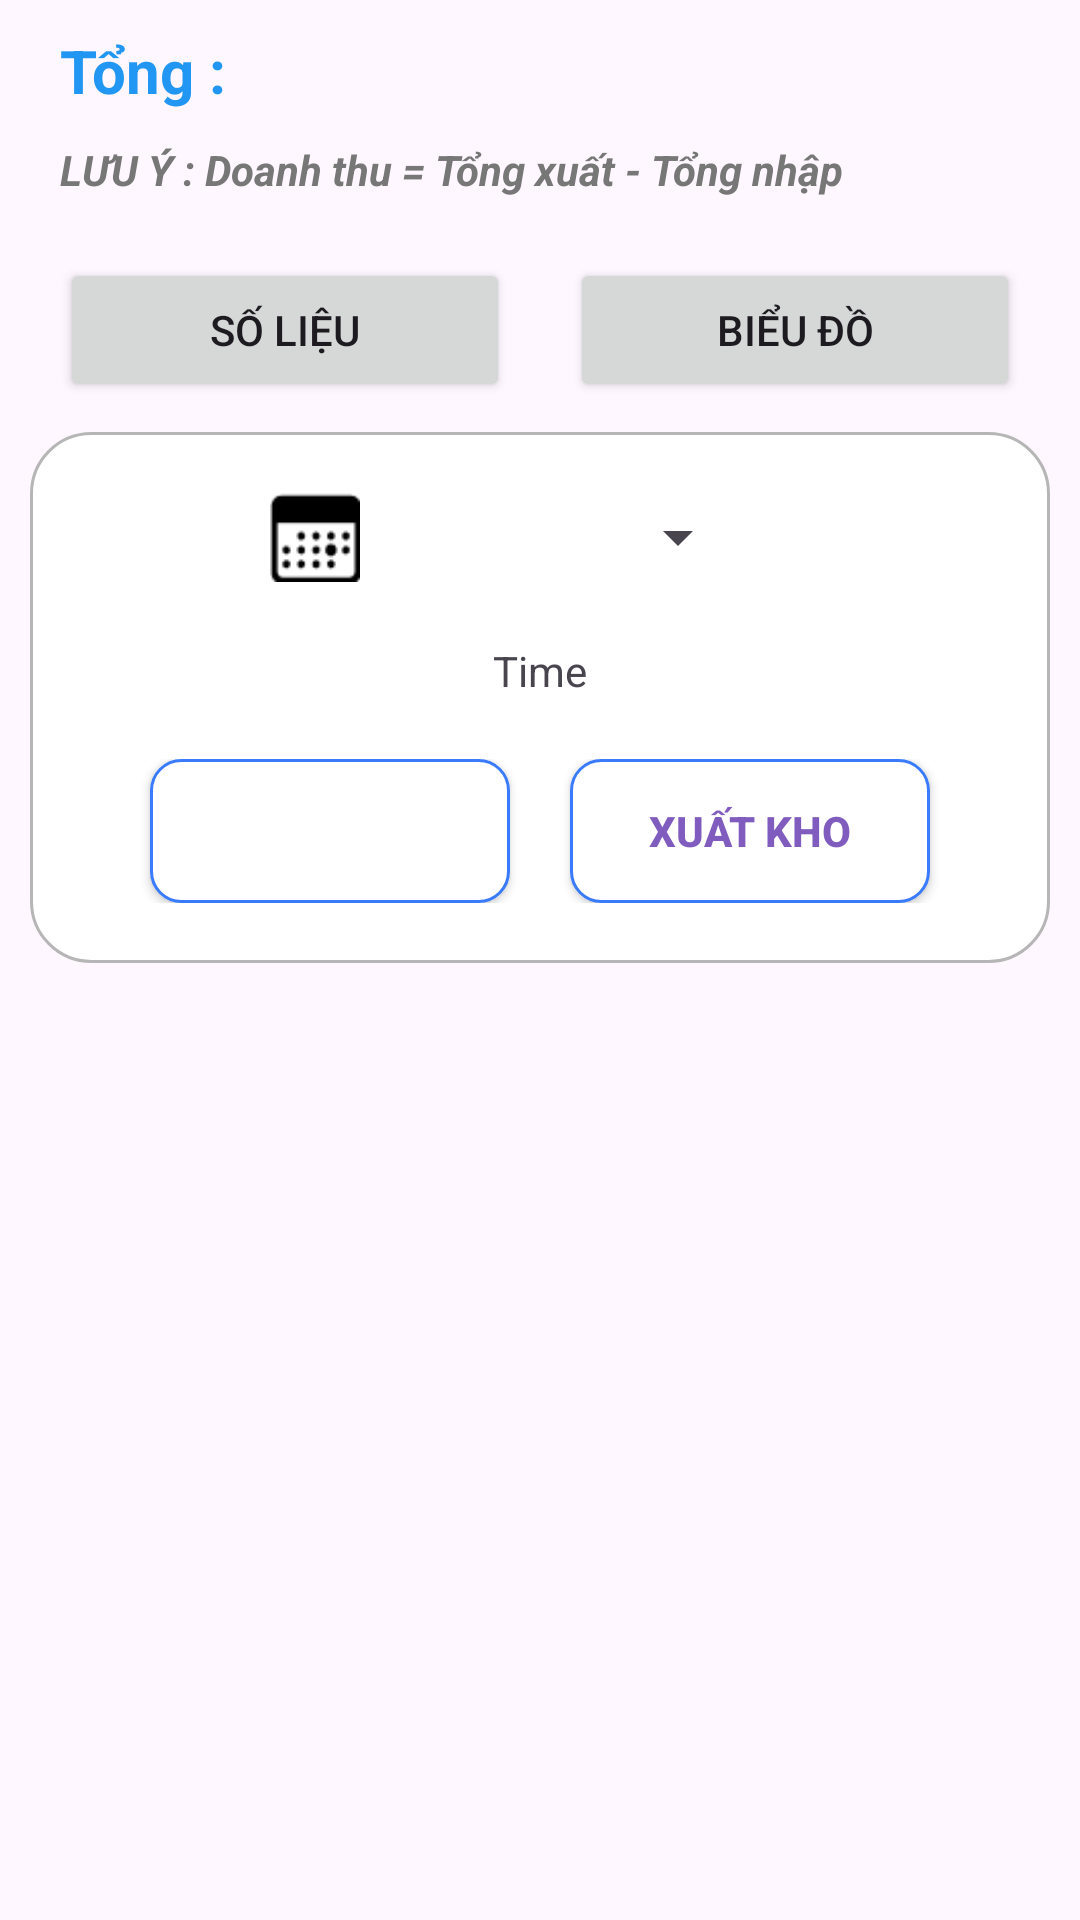

Locate icon controls on the screen. Image size 1080w x 1920h, boxes as (x1, y1, x2, y2).
calendar: (270, 494, 360, 582)
